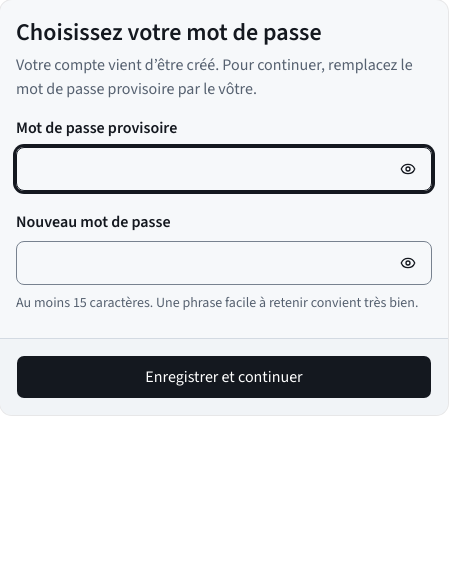
it: ChangePasswordForm › shows any other failure for the form as a whole
Type "provisoire-12345" into the password field labelled "Mot de passe provisoire" at (224, 169), box [16, 147, 432, 191]
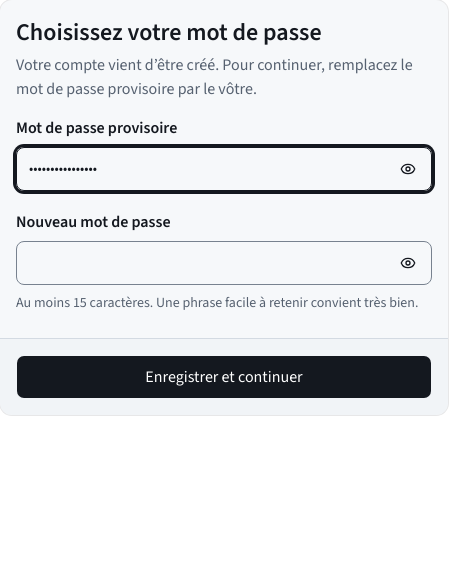
Type "une nouvelle phrase de passe" into the password field labelled "Nouveau mot de passe" at (224, 263), box [16, 241, 432, 285]
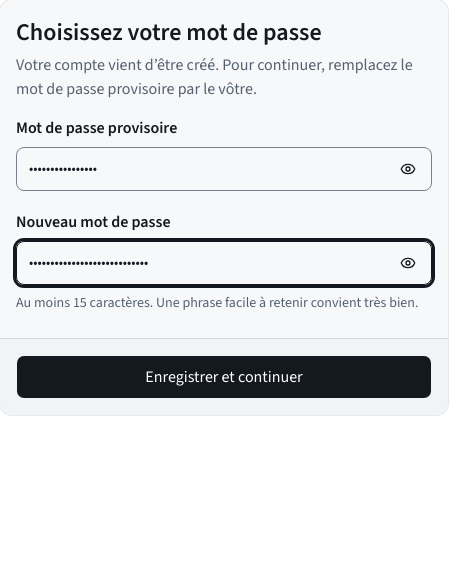
Click the button "Enregistrer et continuer" at (224, 377), box [16, 355, 432, 399]
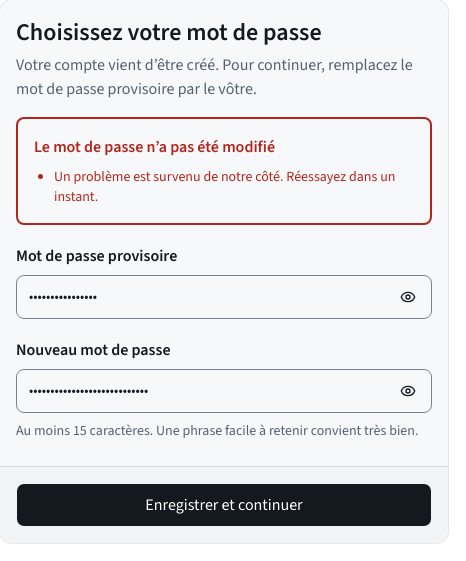
Check: the message shows "Un problème est survenu de notre côté.", box [54, 167, 396, 207]
